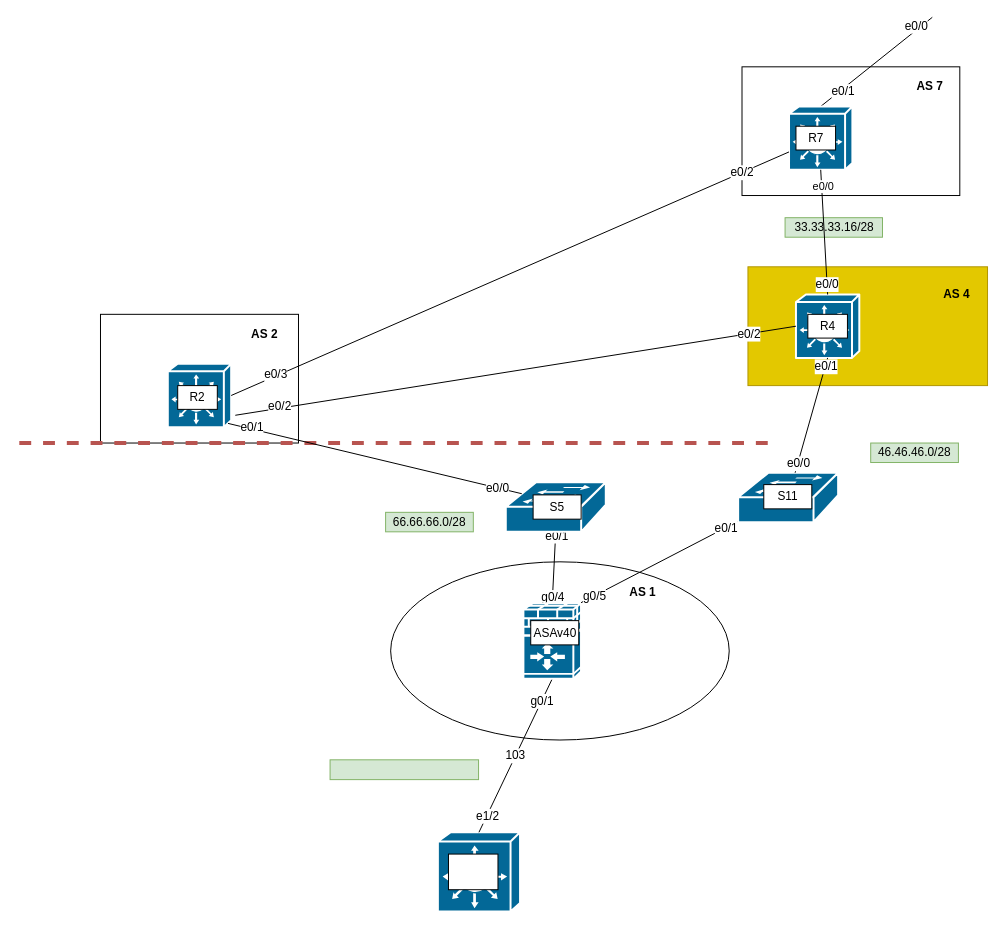
This 1005x930 diagram has some shape labels left out. Each missing label, with the centre of its shape:
nx26 primary: pixel 472 871
SVI 103 - 172.16.8.0/28: pixel 404 769
